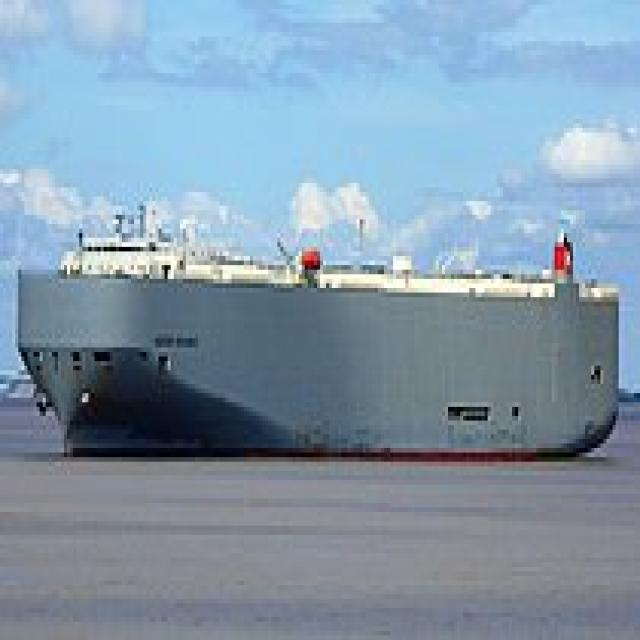Carrier: (12, 192, 622, 466)
